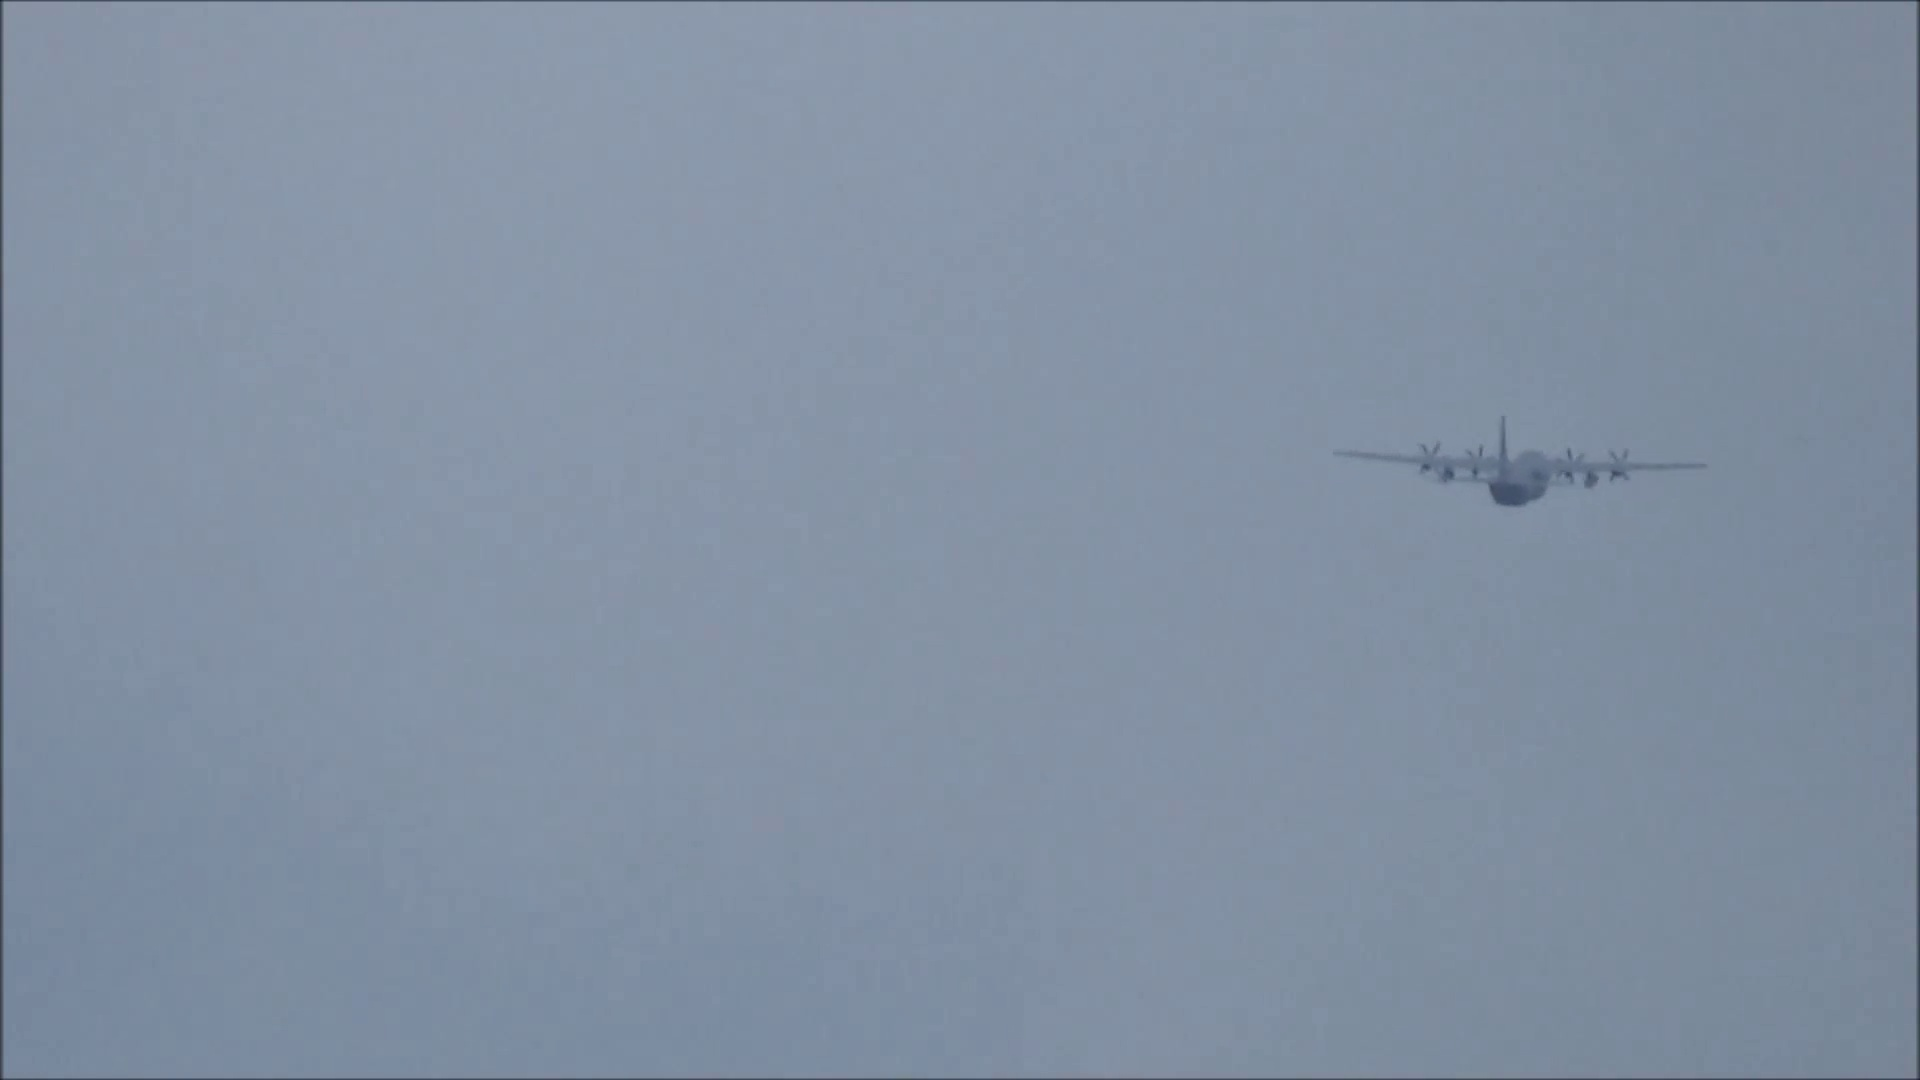Airplane: (1327, 405, 1714, 516)
